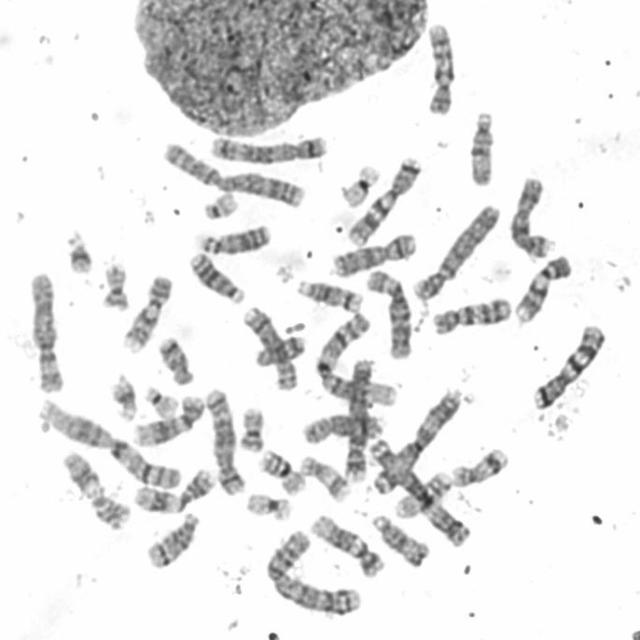A1: (35, 396, 182, 490), (313, 309, 400, 409)
A2: (158, 138, 308, 209), (263, 527, 364, 616)
A3: (366, 436, 471, 548), (368, 384, 464, 496)
B4: (409, 200, 502, 303), (342, 356, 375, 484)
B5: (204, 383, 246, 497), (206, 131, 330, 165)
C10: (428, 294, 512, 337), (421, 20, 456, 117)
C11: (58, 448, 130, 531), (130, 465, 216, 515)
C12: (307, 510, 386, 579), (129, 391, 207, 448)
C6: (26, 269, 65, 395), (363, 265, 413, 360)
C7: (344, 154, 424, 247), (529, 320, 607, 412)
C8: (239, 303, 299, 393), (299, 411, 386, 446)
C9: (511, 252, 574, 326), (119, 272, 174, 354)
D13: (187, 248, 246, 305), (194, 222, 272, 256)
D14: (142, 509, 200, 569), (293, 275, 364, 314)
D15: (370, 510, 430, 568), (465, 106, 497, 188)
E16: (389, 467, 454, 521), (256, 446, 307, 497)
E17: (296, 451, 352, 504), (447, 443, 510, 489)
E18: (250, 330, 308, 368), (155, 333, 195, 387)
F19: (337, 160, 382, 208), (242, 489, 294, 523)
F20: (100, 259, 130, 311), (237, 403, 266, 452)
G21: (63, 228, 95, 276), (109, 371, 138, 422)
G22: (141, 381, 180, 419), (200, 188, 240, 221)
X: (327, 230, 418, 278), (506, 174, 555, 259)
